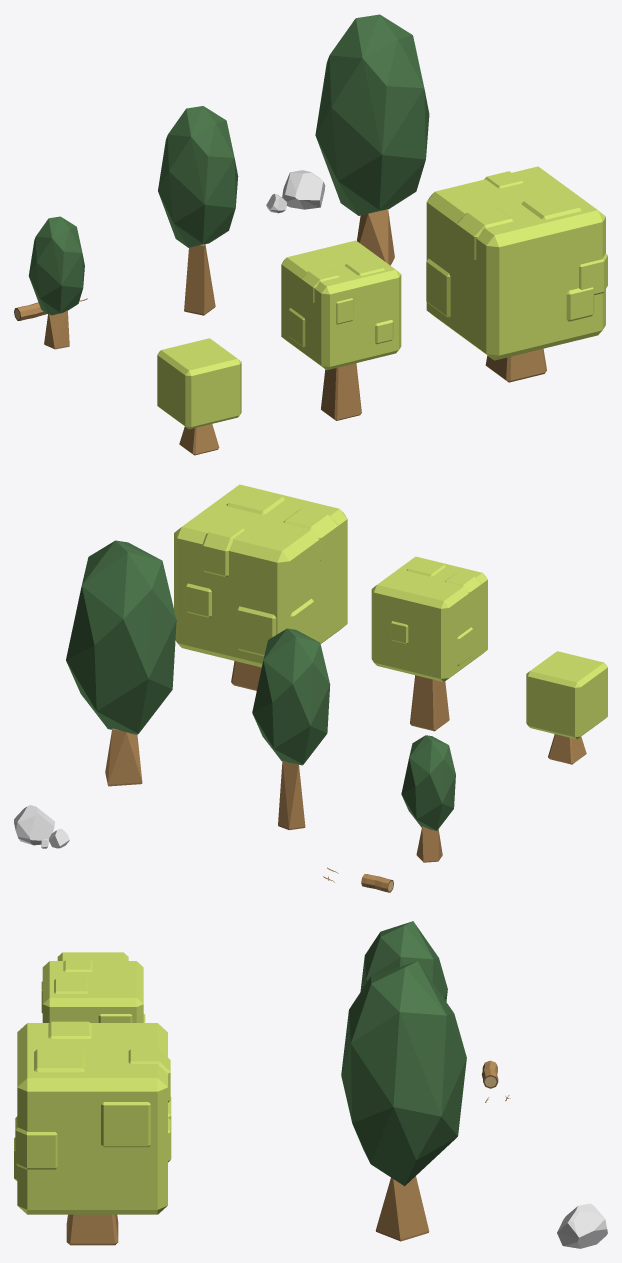
File: Stone.glb
3 views of the same model, one above another, from view 1: azimuth 30°, elevation 25°; view 2: azimuth 150°, elevation 25°; view 3: azimuth 270°, elevation 25° (orthographic). The views are drawn at different scales.
Visible parts, largest first — view 1: Cube.001, Sphere, Cube.010, Sphere.001, Cube.016, Sphere.002, Tronc.001, Cylinder.001, Cylinder, Cube.004, Icosphere, Tronc (+7 smaller); view 2: Cube.001, Sphere, Cube.010, Sphere.001, Cube.016, Sphere.002, Cube.006, Tronc.001, Cylinder, Cylinder.001, Cube.008, Cube.004 (+7 smaller); view 3: Cube.001, Sphere, Cube.010, Sphere.001, Cylinder, Cube.003, Icosphere, Cube.002, Tronc, Cube.009, Cube.004, Cube.008 (+2 smaller).
Boxes of the visible parts, x1=… form: Cube.001: x1=426, y1=166, x2=605, y2=360; Sphere: x1=315, y1=14, x2=429, y2=215; Cube.010: x1=281, y1=240, x2=401, y2=370; Sphere.001: x1=158, y1=106, x2=238, y2=247; Cube.016: x1=157, y1=338, x2=241, y2=429; Sphere.002: x1=28, y1=216, x2=84, y2=315; Tronc.001: x1=321, y1=363, x2=361, y2=420; Cylinder.001: x1=184, y1=244, x2=215, y2=315; Cylinder: x1=357, y1=209, x2=394, y2=265; Cube.004: x1=457, y1=206, x2=513, y2=259; Icosphere: x1=282, y1=170, x2=325, y2=209; Tronc: x1=485, y1=348, x2=546, y2=382; Cube.001: x1=174, y1=484, x2=347, y2=667; Sphere: x1=66, y1=540, x2=176, y2=734; Cube.010: x1=371, y1=556, x2=487, y2=681; Sphere.001: x1=252, y1=628, x2=330, y2=765; Cube.016: x1=526, y1=651, x2=607, y2=739; Sphere.002: x1=401, y1=735, x2=455, y2=830; Cube.006: x1=237, y1=598, x2=313, y2=656; Tronc.001: x1=410, y1=675, x2=449, y2=731; Cylinder: x1=105, y1=728, x2=142, y2=786; Cylinder.001: x1=278, y1=760, x2=305, y2=830; Cube.008: x1=202, y1=523, x2=244, y2=577; Cube.004: x1=283, y1=508, x2=338, y2=560; Cube.001: x1=17, y1=1023, x2=167, y2=1214; Sphere: x1=341, y1=961, x2=466, y2=1186; Cube.010: x1=42, y1=961, x2=143, y2=1022; Sphere.001: x1=360, y1=921, x2=447, y2=1001; Cylinder: x1=375, y1=1176, x2=429, y2=1241; Cube.003: x1=101, y1=1102, x2=150, y2=1147; Icosphere: x1=557, y1=1203, x2=607, y2=1248; Cube.002: x1=15, y1=1116, x2=57, y2=1169; Tronc: x1=66, y1=1214, x2=118, y2=1245; Cube.009: x1=34, y1=1049, x2=84, y2=1072; Cube.004: x1=48, y1=1021, x2=91, y2=1038; Cube.008: x1=128, y1=1049, x2=170, y2=1102.
Bounding box in the file's own units: 19.83 × 11.94 × 22.99.
